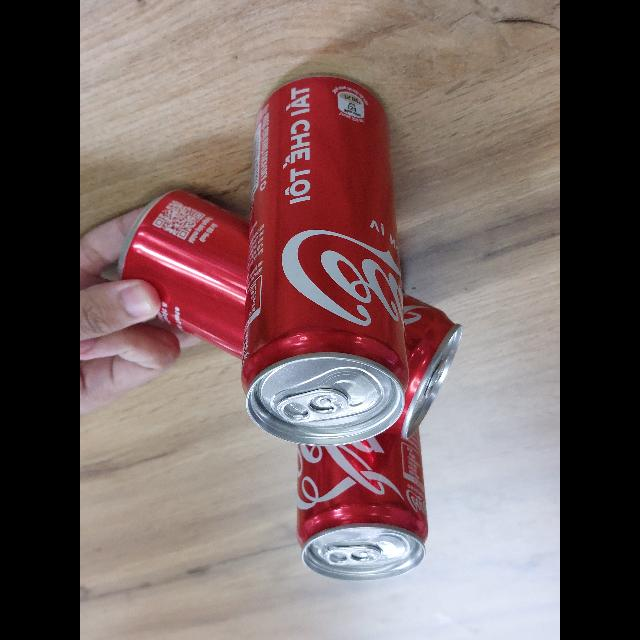coca_cola: (116, 188, 463, 439), (240, 72, 409, 446), (296, 415, 429, 581)
